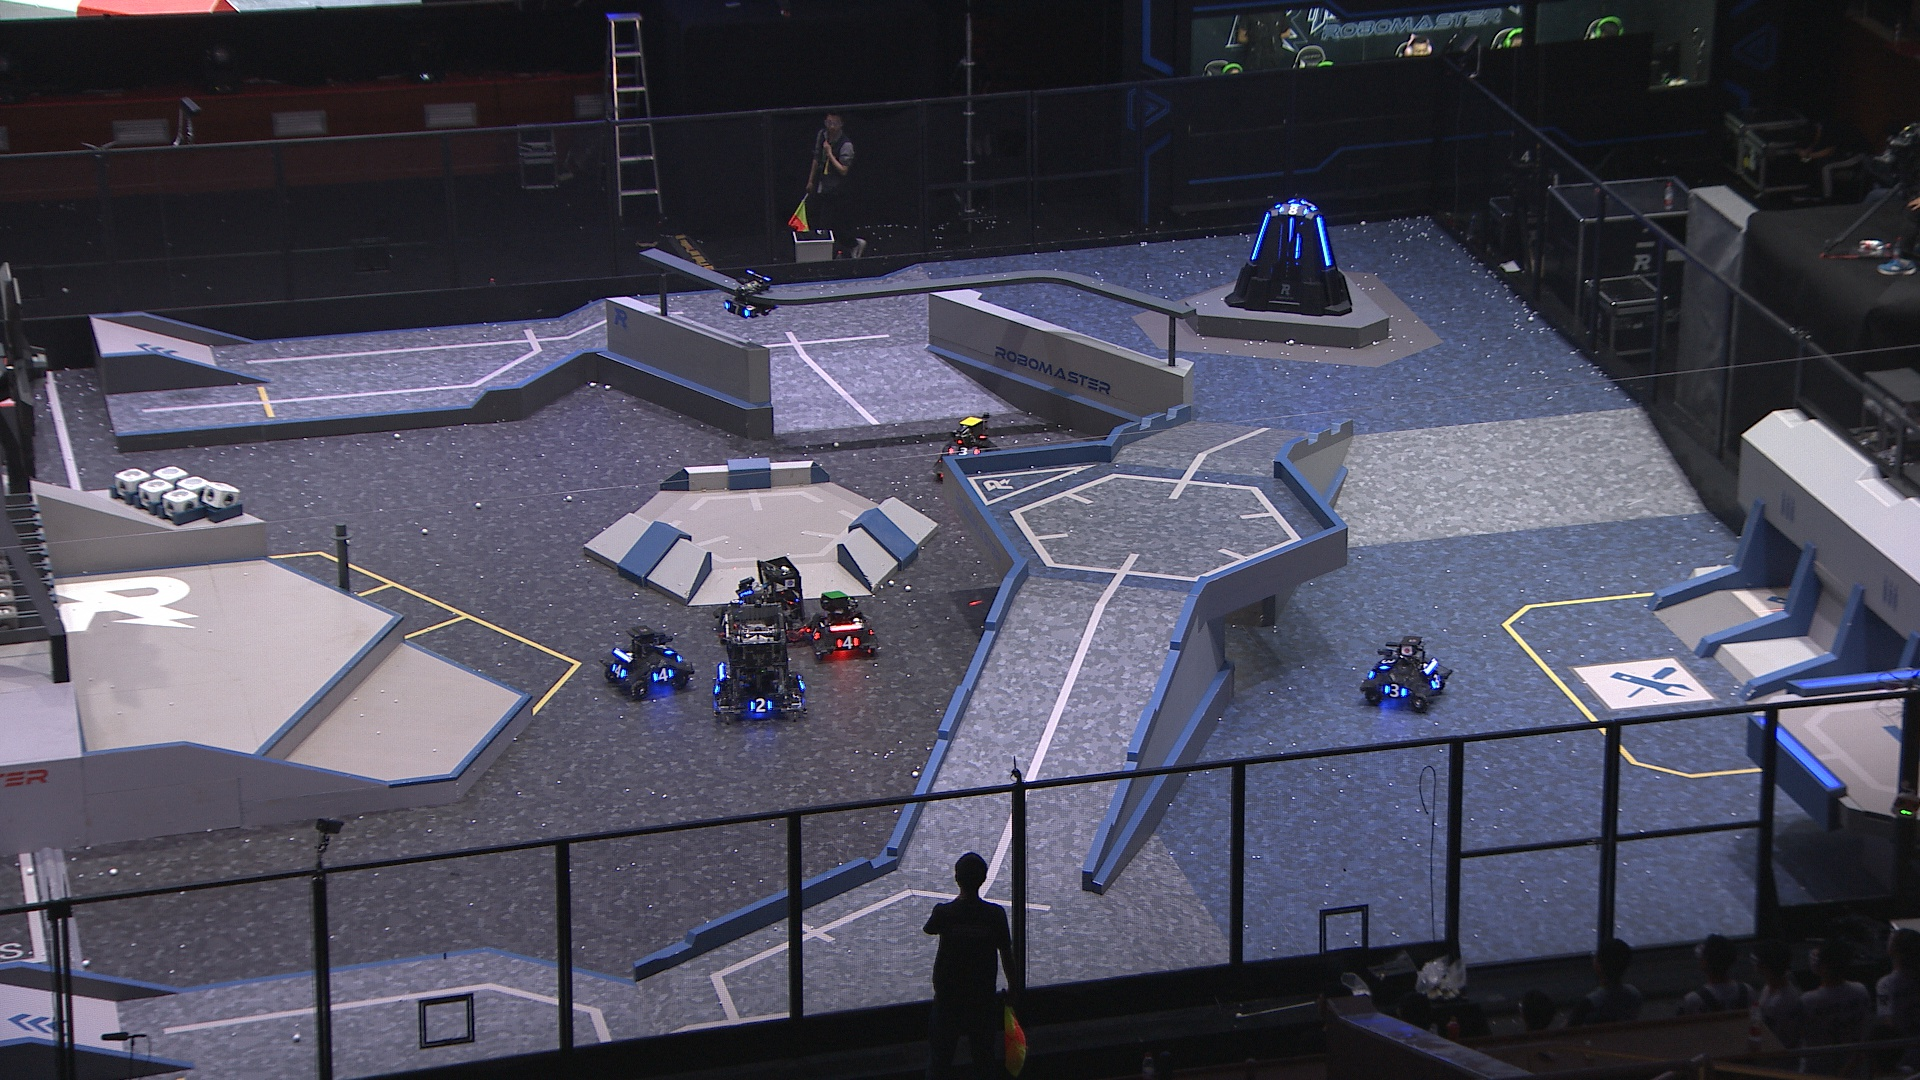armor: (1249, 211, 1273, 262), (1316, 214, 1335, 268), (721, 299, 752, 319), (1278, 202, 1309, 218), (752, 695, 775, 716), (948, 444, 982, 458), (1382, 683, 1408, 699), (650, 669, 676, 684), (1429, 670, 1447, 694), (833, 636, 861, 650), (1292, 233, 1304, 262), (1378, 655, 1396, 673), (807, 622, 822, 642), (612, 661, 628, 678), (1287, 218, 1296, 245)
base: (1221, 200, 1354, 319)
car: (709, 603, 808, 727), (1360, 633, 1451, 712), (603, 626, 698, 698), (728, 556, 808, 640), (804, 589, 882, 661), (931, 413, 1006, 484)
watcher: (719, 268, 782, 322)
